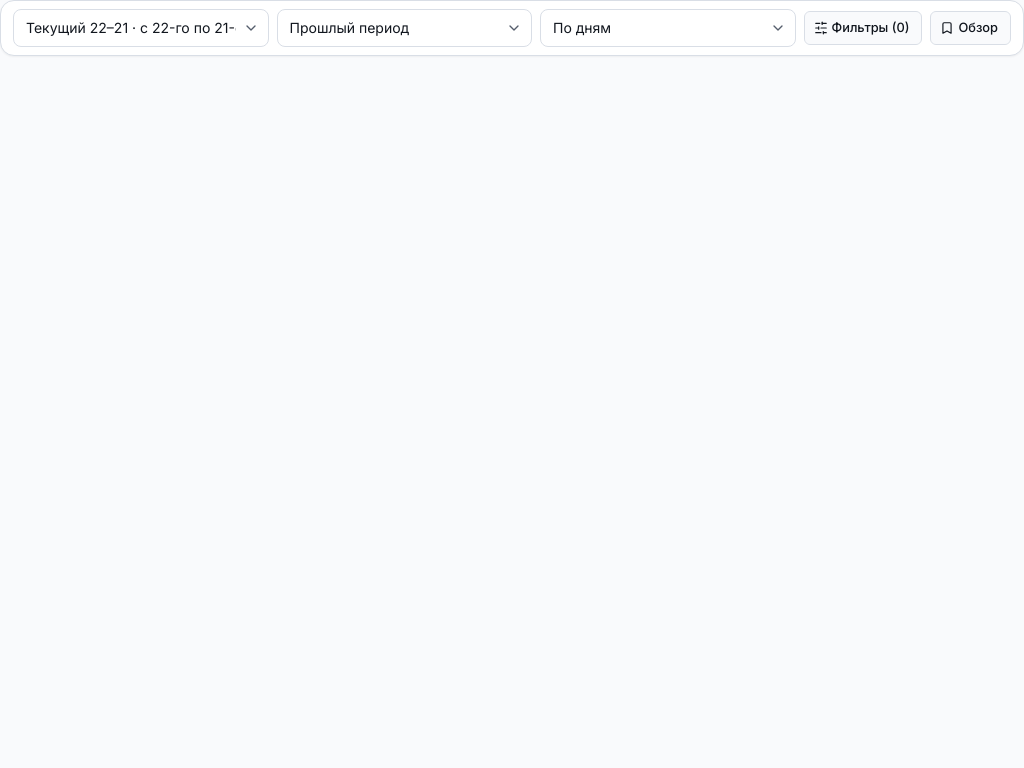
Test: ReportParameterLens › uses an exact-640-safe full-width, full-height shadcn Sheet for mobile filters
Click the button "Фильтры (0)": {"x": 863, "y": 28} left=804, top=11, right=922, bottom=45
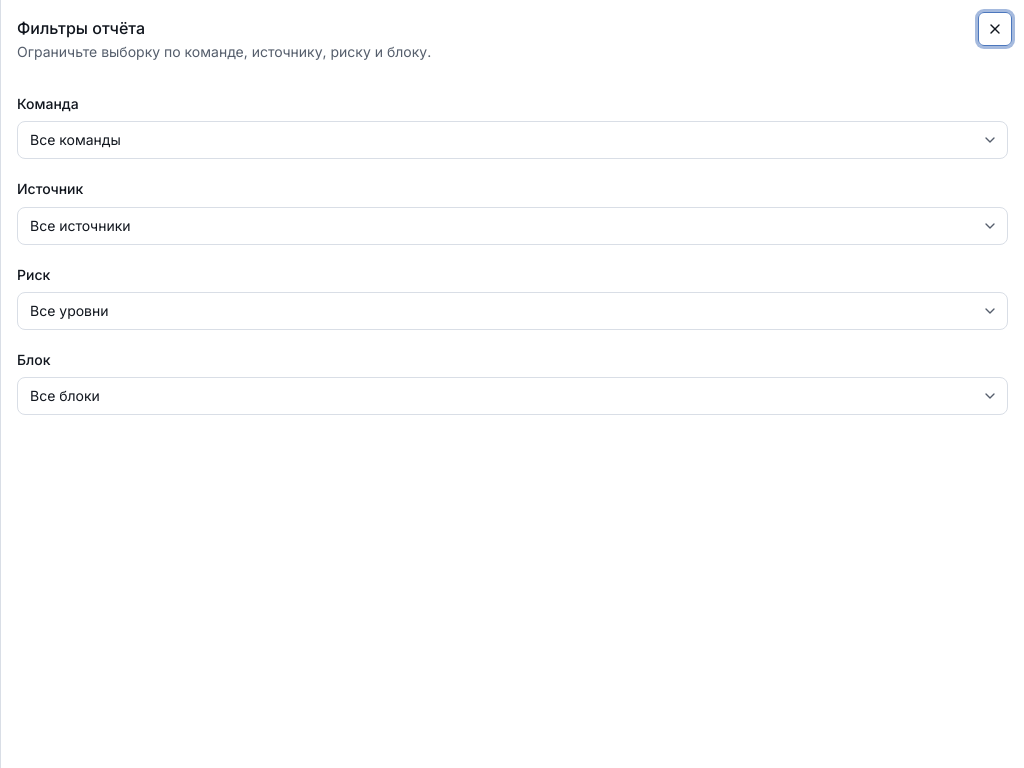
Result: the button named "Закрыть" is shown at left=978, top=12, right=1012, bottom=46
